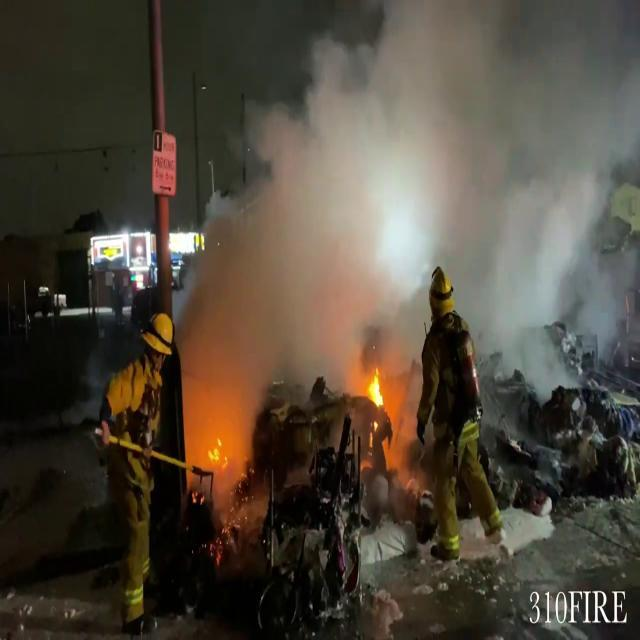Fire: (361, 365, 393, 432)
Smoke: (188, 0, 640, 468)
